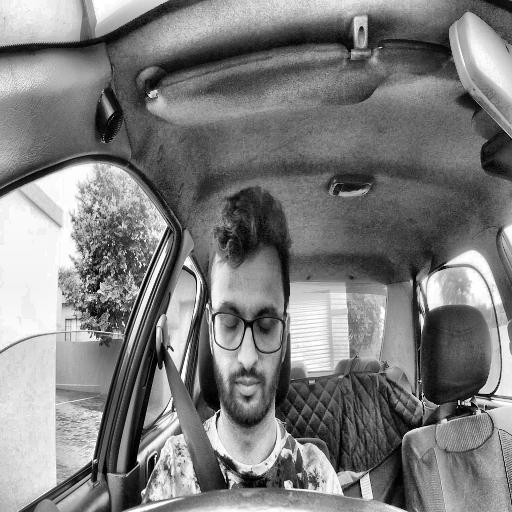drowsy: (206, 186, 291, 430)
